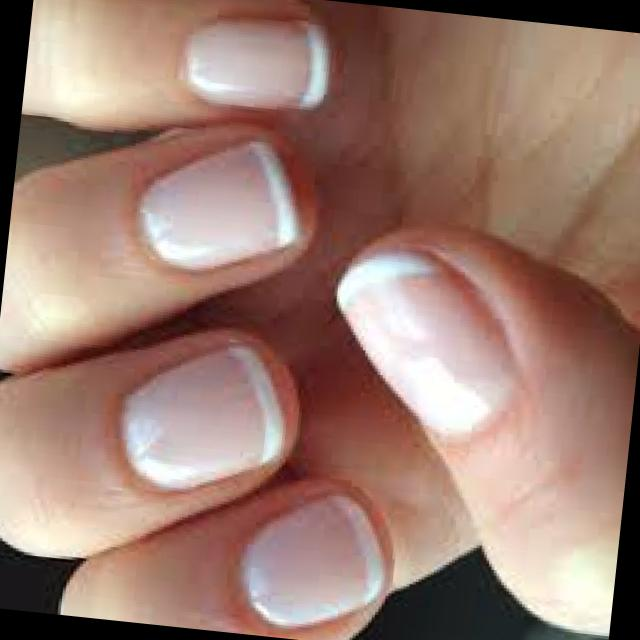Nail: (336, 249, 512, 438), (122, 345, 283, 488), (138, 140, 296, 267), (240, 493, 384, 626), (185, 17, 328, 108)
